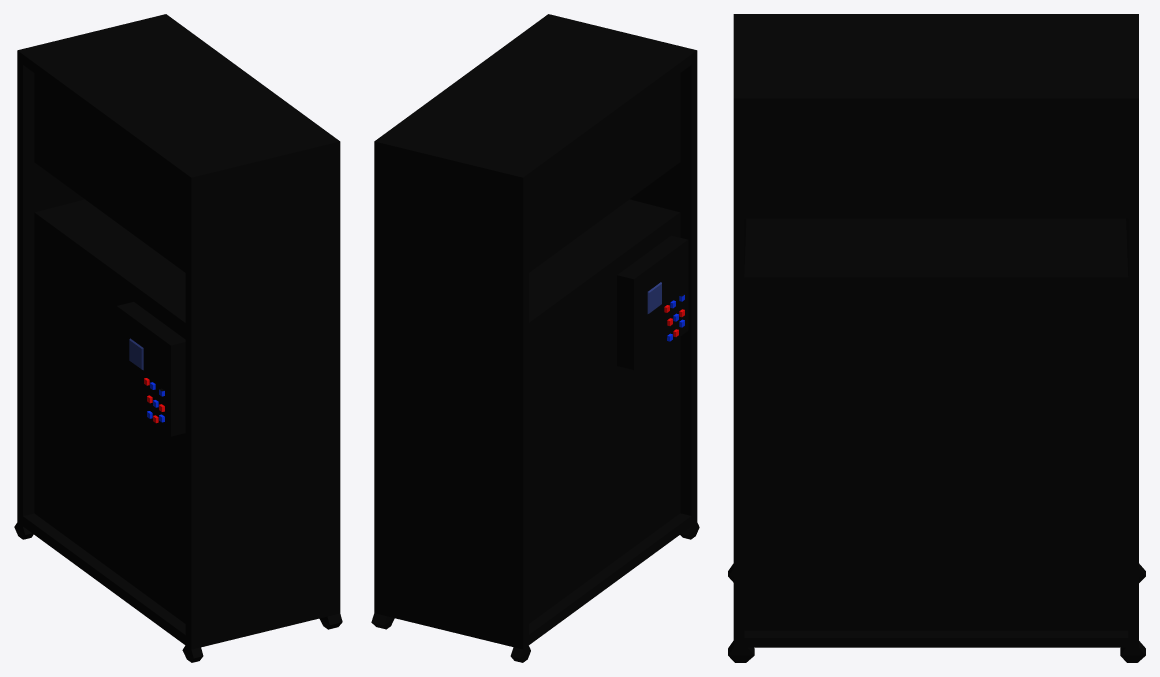
The model's file is server2.glb.
3 renders of one model, left to right at view 1: azimuth 30°, elevation 25°; view 2: azimuth 150°, elevation 25°; view 3: azimuth 270°, elevation 25°, orthographic. The views are drawn at different scales.
Visible parts, largest first — view 1: Cube; view 2: Cube; view 3: Cube.
Part boxes in pixels (box(x1,y1,x2,y2)): Cube: box(14, 14, 342, 662); Cube: box(371, 14, 699, 662); Cube: box(728, 14, 1145, 662).
Size of the model in its own units: 2.12 by 6.24 by 4.18.
1 material, 1 textured.
